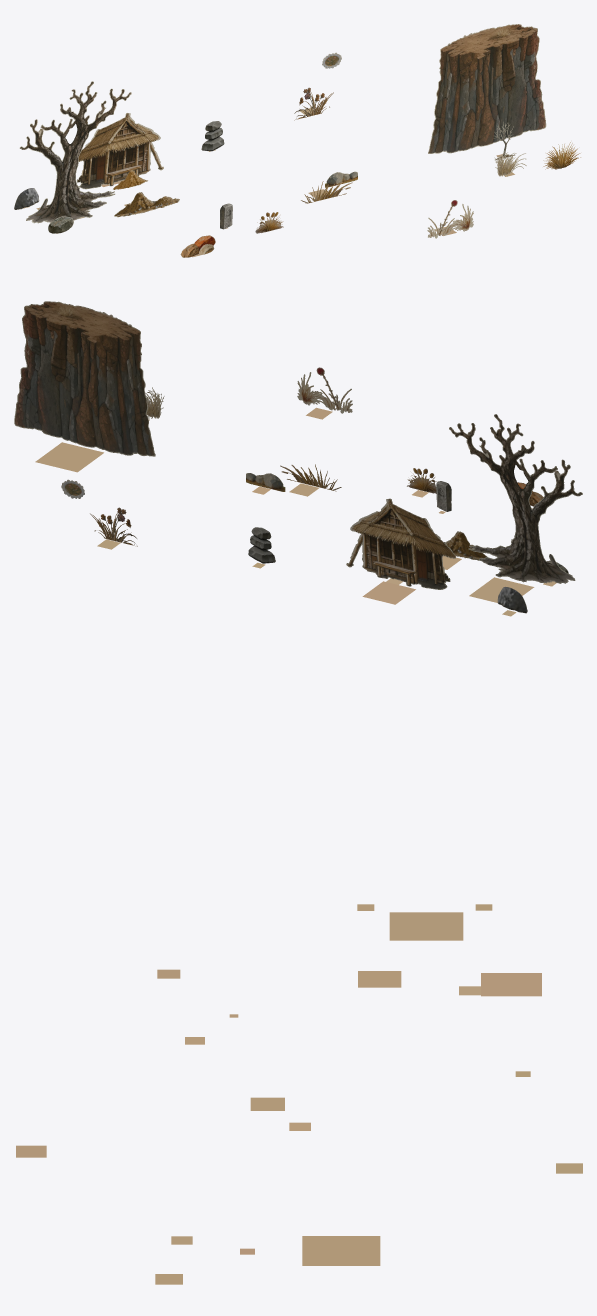
File: toad-sheet-4a.glb
3 views of the same model, one above another, from view 1: azimuth 30°, elevation 25°; view 2: azimuth 150°, elevation 25°; view 3: azimuth 270°, elevation 25° (orthographic). The views are drawn at different scales.
Parts seen in each view (by area): view 1: sheet-4a; view 2: sheet-4a; view 3: sheet-4a.
Part boxes in pixels (x1,y1,x2,y2): sheet-4a: [14, 24, 580, 257]; sheet-4a: [14, 301, 582, 616]; sheet-4a: [16, 904, 582, 1284].
Size of the model in its own units: 1.52 by 0.3947 by 0.8665.
1 material, 1 textured.
